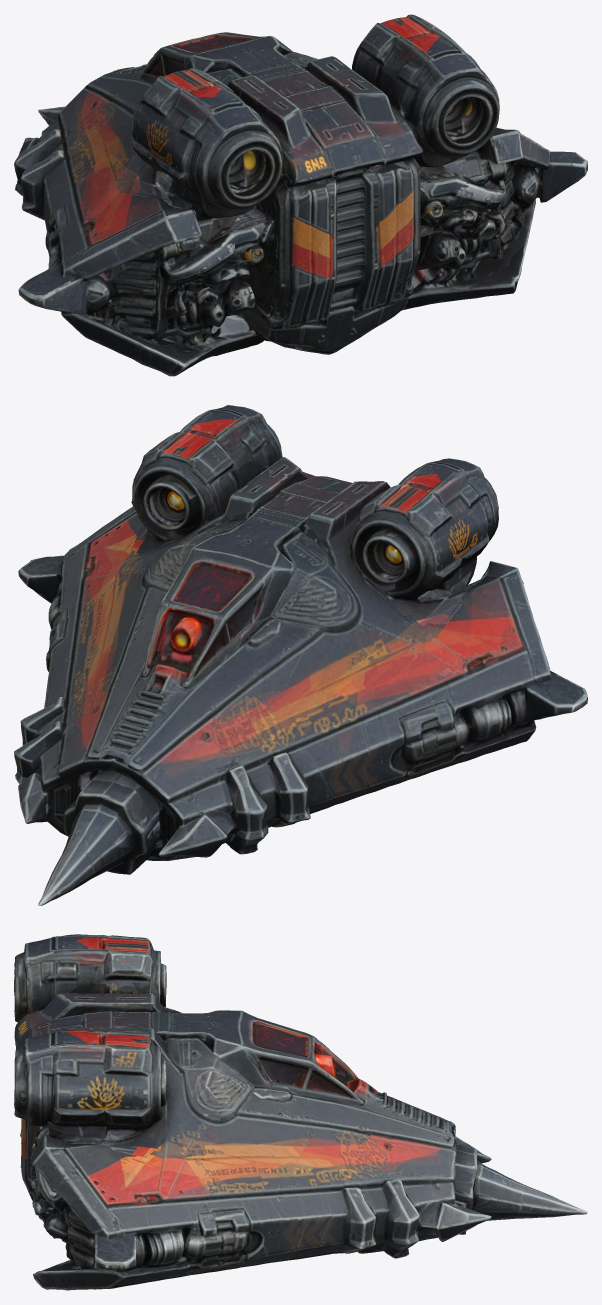
3 views of the same model, one above another, from view 1: azimuth 30°, elevation 25°; view 2: azimuth 150°, elevation 25°; view 3: azimuth 270°, elevation 25° (orthographic). The views are drawn at different scales.
Bounding box in the file's own units: 1 × 0.498 × 0.9995.
Materials: 1 (1 with a texture image).
